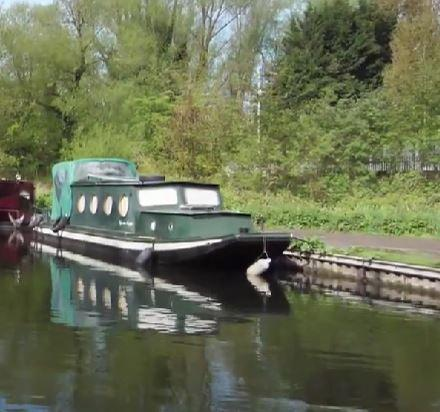Ship: (25, 150, 295, 285)
